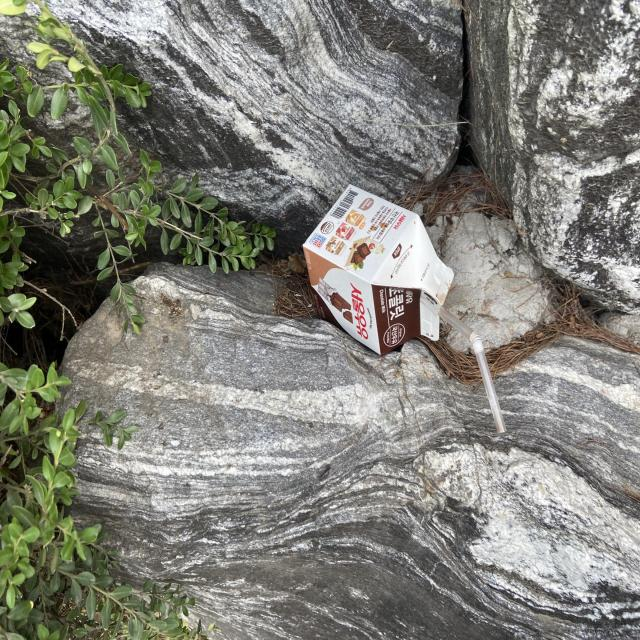paperpack: (303, 186, 454, 354)
